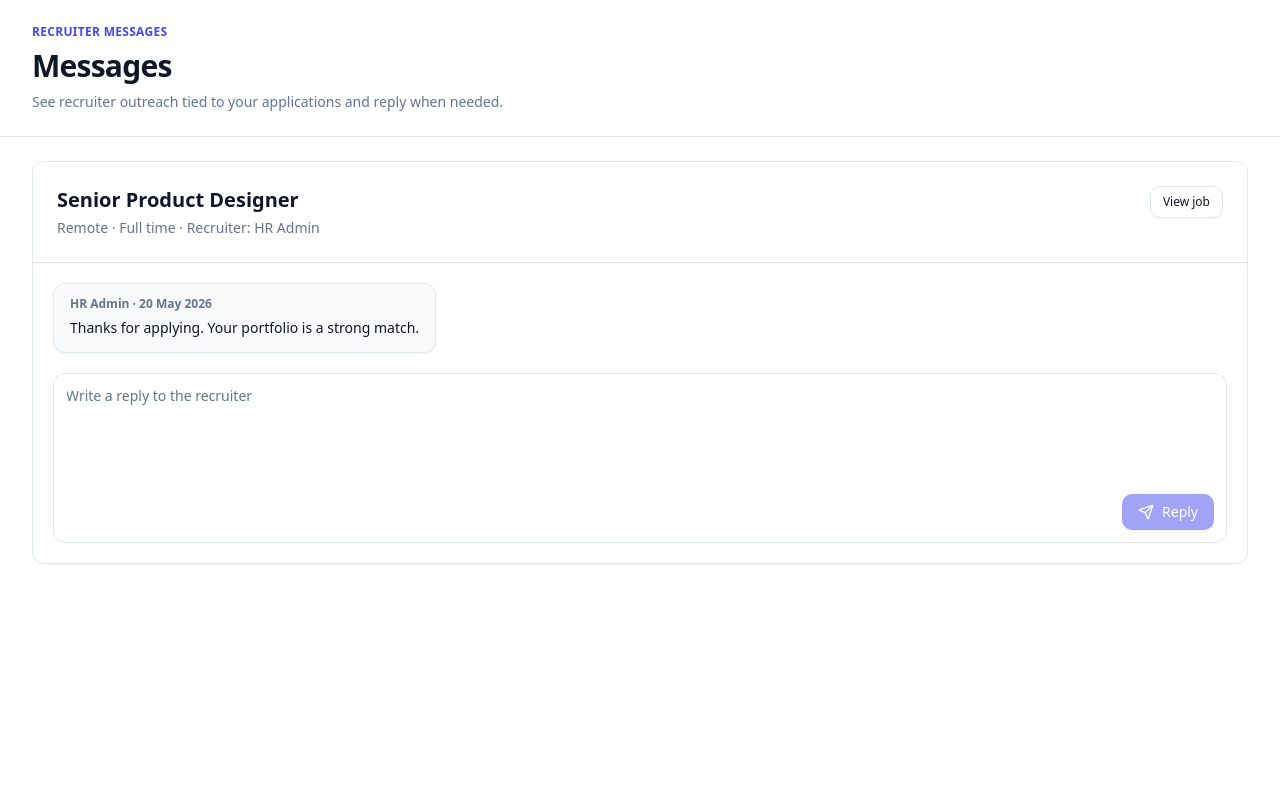
Test: CandidateMessagesPage › sends a reply and renders the saved message from the backend response
Expected: the link "Senior Product Designer" is shown, [57,186,299,213]
In the text box with placeholder "Write a reply to the recruiter": (640, 434) [66,386,1214,482], type "Happy to discuss tomorrow."
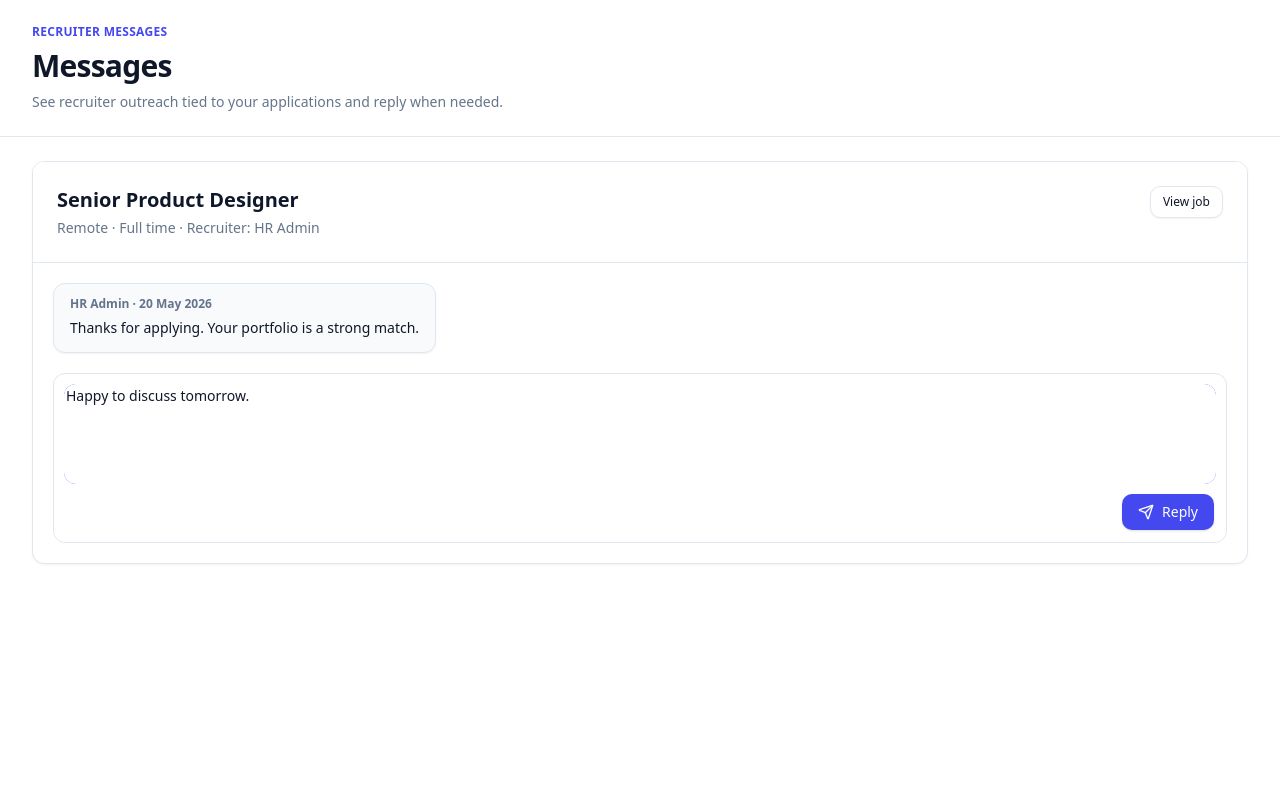
Click the button "Reply": (1168, 512) [1122,494,1214,530]
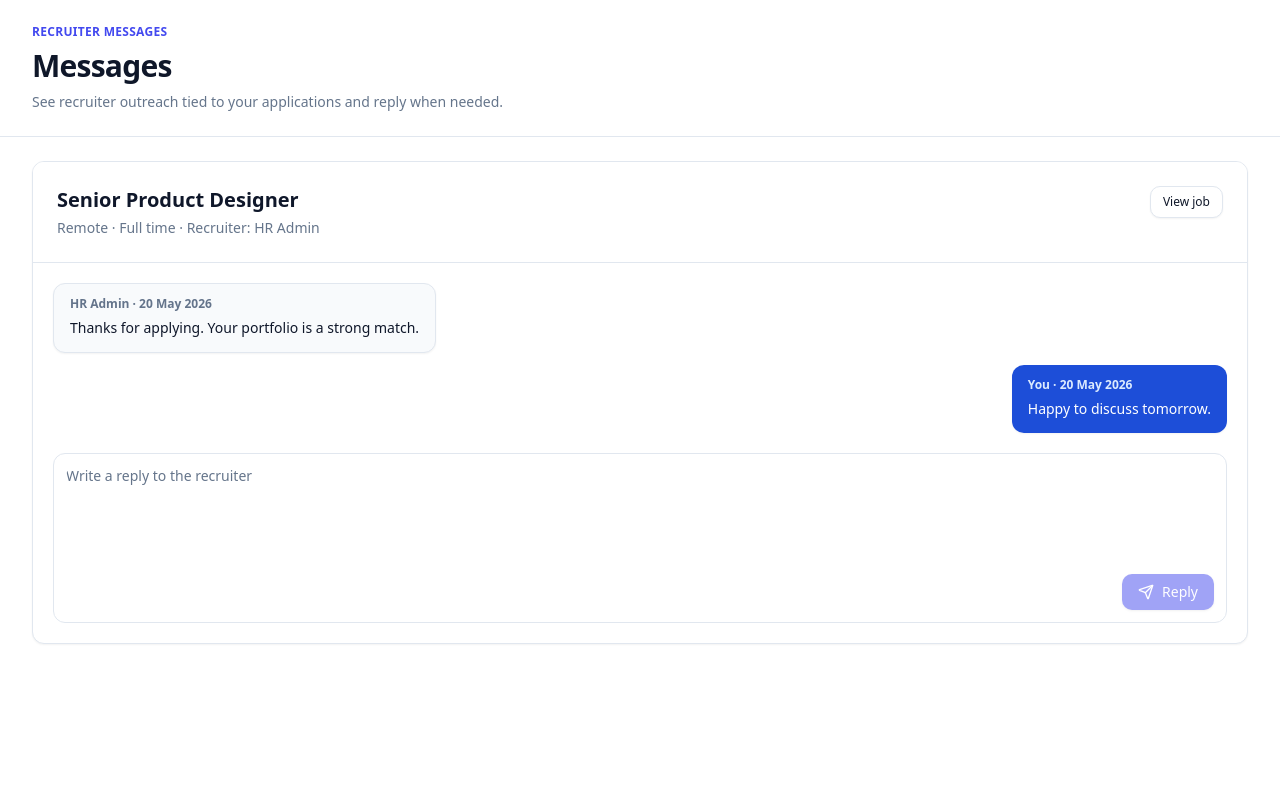
Result: the text "Happy to discuss tomorrow." is shown at [1028,397,1211,421]
Result: the text box with placeholder "Write a reply to the recruiter" is empty at [66,466,1214,562]
